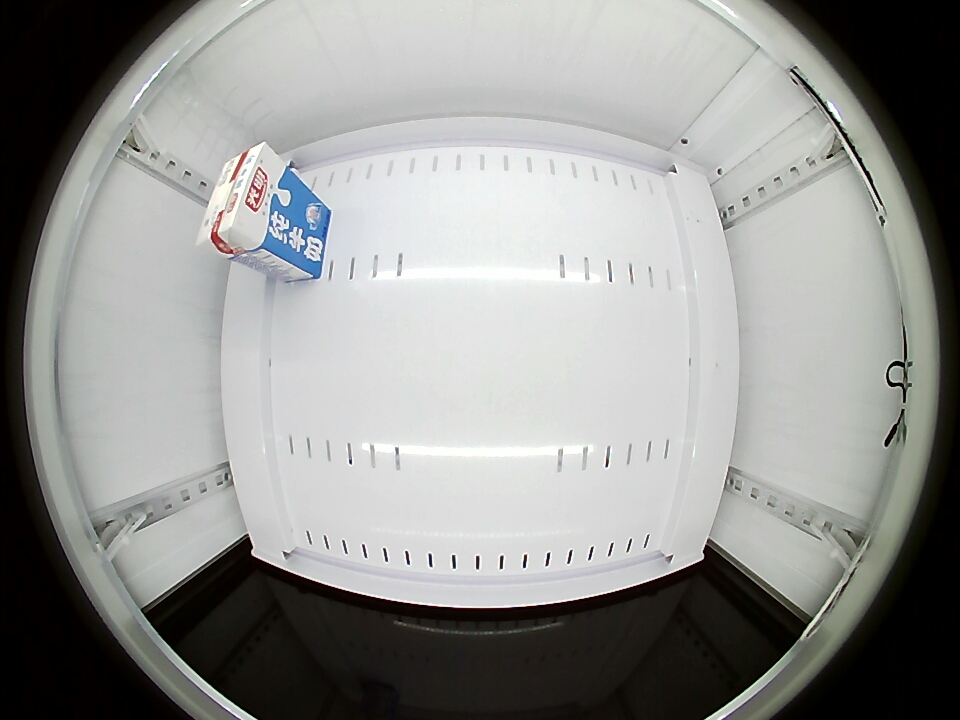niunai: (198, 142, 288, 260)
